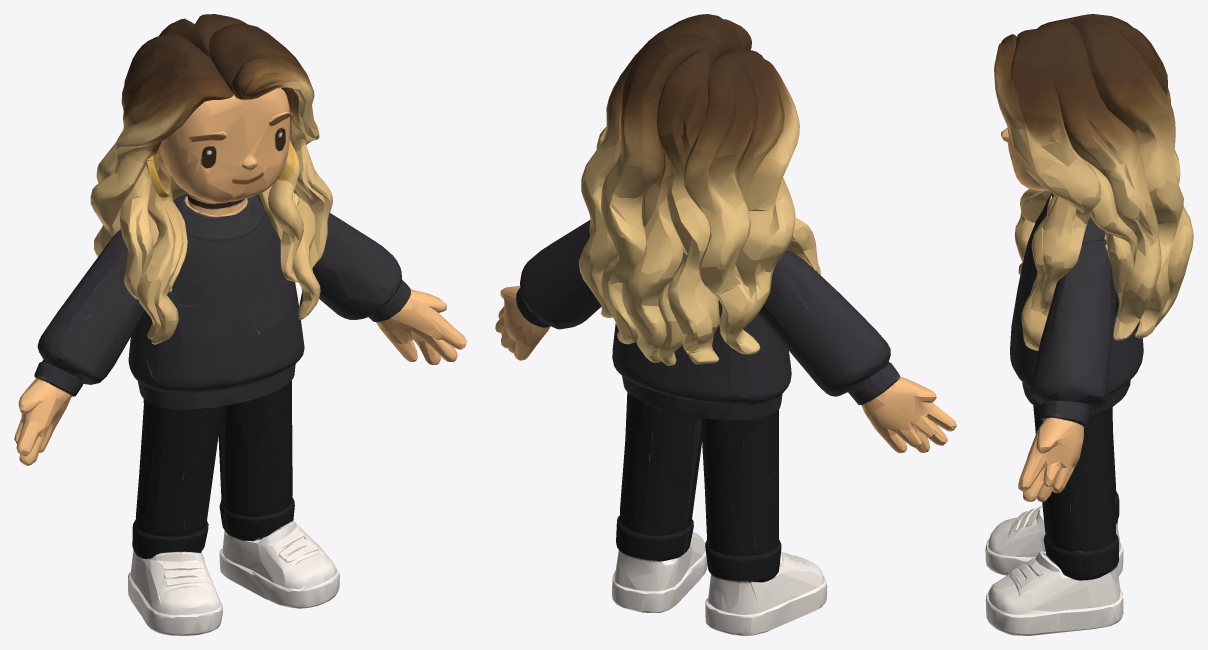
3 views of the same model, side by side, from view 1: azimuth 30°, elevation 25°; view 2: azimuth 150°, elevation 25°; view 3: azimuth 270°, elevation 25° (orthographic).
Size of the model in its own units: 1.58 by 1.9 by 0.6252.
1 material, 1 textured.
